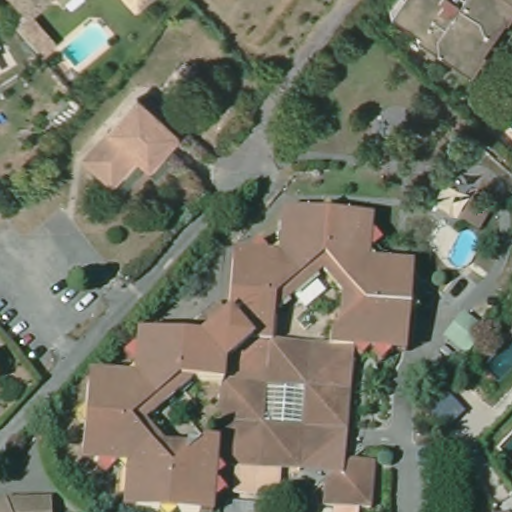pool: (59, 24, 112, 71), (449, 228, 478, 269)
